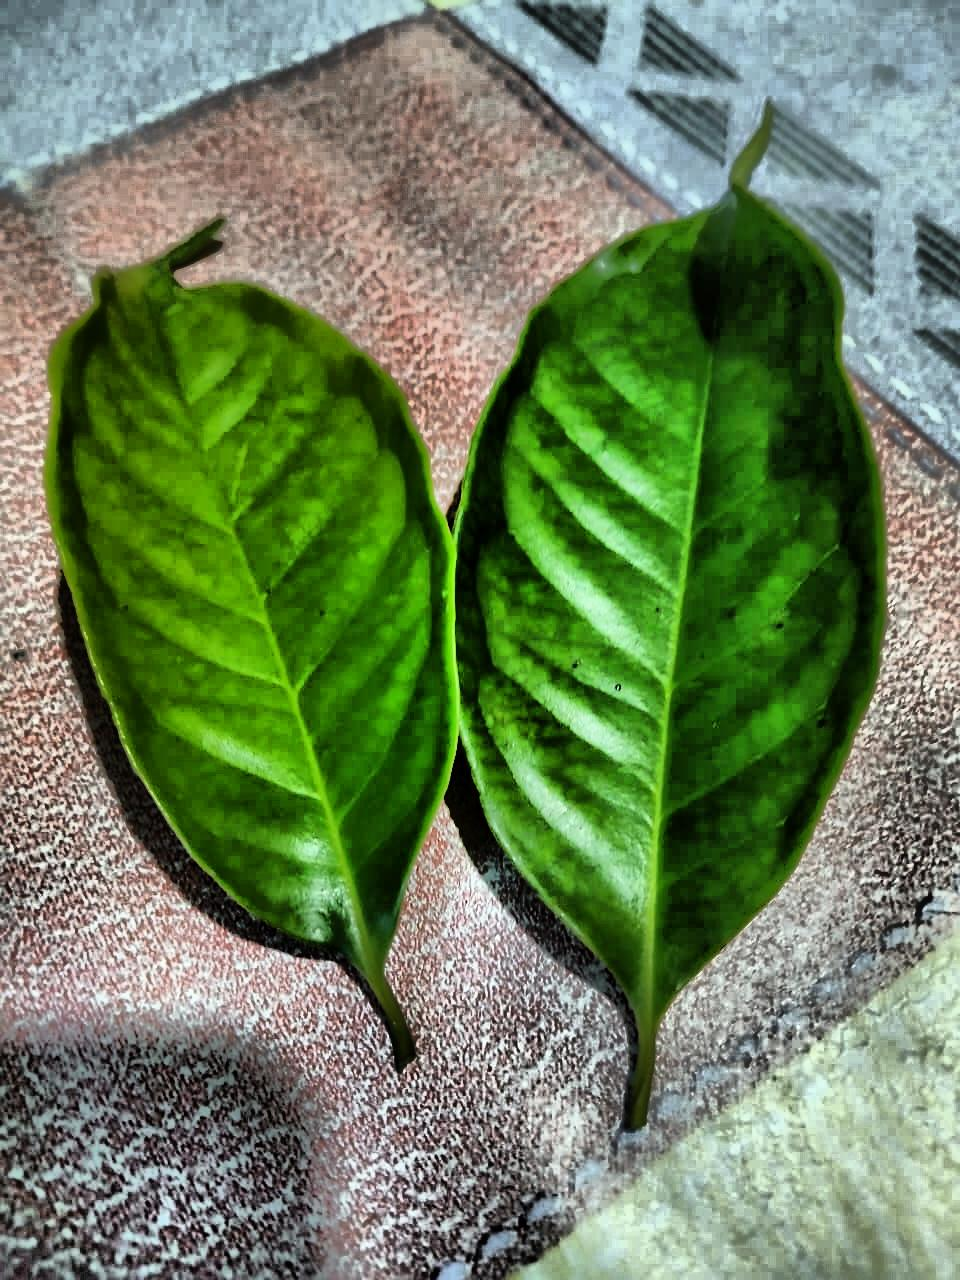daun salam: (456, 113, 883, 1123), (46, 221, 458, 1064)
